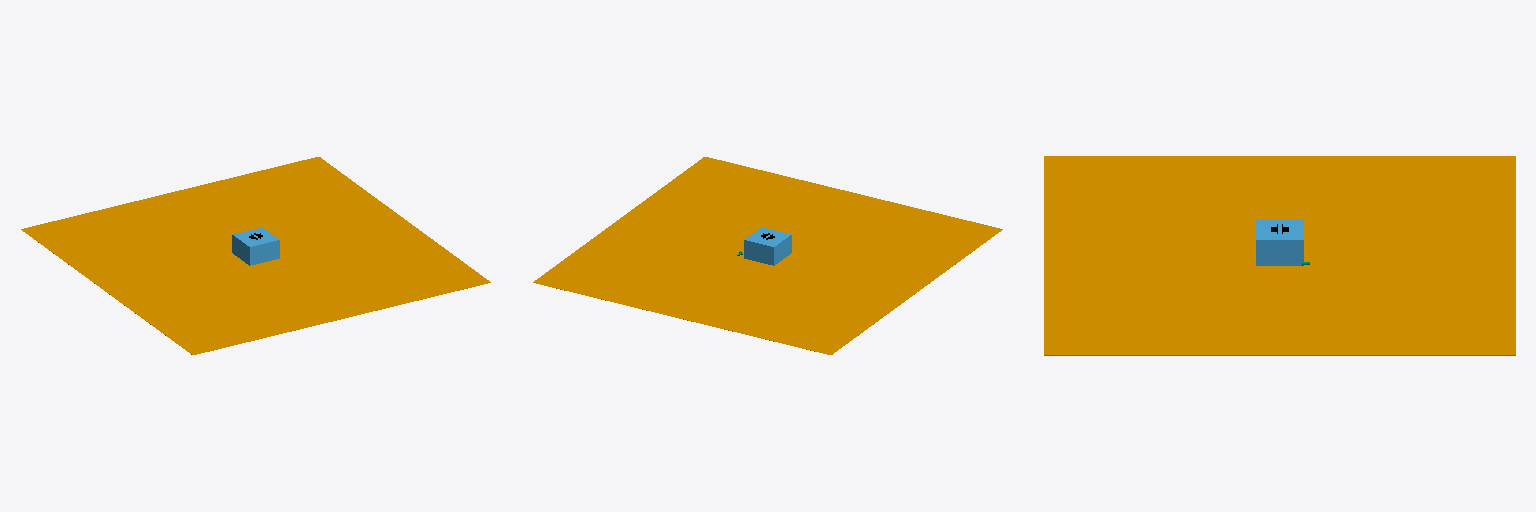
URDF robot description (ur5e):
<?xml version="1.0" encoding="utf-8"?>
<!-- =================================================================================== -->
<!-- |    This document was autogenerated by xacro from ur5e_robot.urdf.xacro          | -->
<!-- |    EDITING THIS FILE BY HAND IS NOT RECOMMENDED                                 | -->
<!-- =================================================================================== -->
<robot name="ur5e" xmlns:xacro="http://ros.org/wiki/xacro">

  <material name="black">
    <color rgba="0 0 0 1"/>
  </material>
  <material name="gray">
    <color rgba="0.1 0.1 0.1 1"/>
  </material>
  <material name="lightgray">
    <color rgba="0.8 0.8 0.8 1"/>
  </material>

  <link name="ground">
        <origin rpy="0.0 0.0 0.0" xyz="0 0 0.00"/>
        <visual>
            <!-- <origin rpy="0.0 0.0 0.0" xyz="0.0 0.0 0.0"/> -->
            <geometry>
                <box size="5 5 0.001"/>
            </geometry>
        </visual>
        <collision>
            <!-- <origin rpy="0.0 0.0 0.0" xyz="0.0 0.0 0.0"/> -->
            <geometry>
                <box size="5 5 0.001"/>
            </geometry>
        </collision>
   </link>

   <!-- Table -->
   <joint name="table_ground" type="fixed">
        <parent link="ground"/>
        <child link="table"/>
        <origin rpy="0 0 0" xyz="0.0 0.0 0.15"/>
   </joint>
   <link name="table">
    <visual>
      <origin xyz="0 0 0"/>
      <geometry>
        <box size="0.5 0.5 0.3"/>
      </geometry>
    </visual>
    <collision>
      <origin xyz="0 0 0"/>
      <geometry>
        <box size="0.5 0.5 0.3"/>
      </geometry>
    </collision>
    <inertial>
      <mass value="1000.0"/>
      <inertia ixx="0.01" ixy="0.00" ixz="0.00" iyy="0.01" iyz="0.0" izz="0.01"/>
      <!-- inertia is recomputed when loading asset  -->
    </inertial>
  </link>

    <!-- Obstacle L1 (top right) -->
    <link name="obs_L1_1">
        <visual>
            <origin rpy="0.0 0.0 0.0" xyz="0.0 0.0 0.0"/>
            <geometry>
                <box size="0.07 0.01 0.05"/>
            </geometry>
            <material name="">
                <color rgba="0 0 0 1"/>
            </material>
        </visual>
        <collision>
            <origin rpy="0.0 0.0 0.0" xyz="0.0 0.0 0.0"/>
            <geometry>
                <box size="0.07 0.01 0.05"/>
            </geometry>
        </collision>
        <inertial>
            <mass value="10000"/>
            <inertia ixx="100"  ixy="0"  ixz="0" iyy="100" iyz="0" izz="100" />
        </inertial>
    </link>
    <link name="obs_L1_2">
        <visual>
            <origin rpy="0.0 0.0 0.0" xyz="0.0 0.0 0.0"/>
            <geometry>
                <box size="0.01 0.07 0.05"/>
            </geometry>
            <material name="">
                <color rgba="0 0 0 1"/>
            </material>
        </visual>
        <collision>
            <origin rpy="0.0 0.0 0.0" xyz="0.0 0.0 0.0"/>
            <geometry>
                <box size="0.01 0.07 0.05"/>
            </geometry>
        </collision>
        <inertial>
            <mass value="10000"/>
            <inertia ixx="100"  ixy="0"  ixz="0" iyy="100" iyz="0" izz="100" />
        </inertial>
    </link>
    <joint name="obs_L1_1" type="fixed">
        <parent link="table"/>
        <child link="obs_L1_1"/>
        <origin rpy="0 0 0" xyz="0.06 0.03 0.15"/>
    </joint>
    <joint name="obs_L1_2" type="fixed">
        <parent link="table"/>
        <child link="obs_L1_2"/>
        <origin rpy="0 0 0" xyz="0.03 0.06 0.15"/>
    </joint>

    <!-- Obstacle L2 (bottom left) -->
    <link name="obs_L2_1">
        <visual>
            <origin rpy="0.0 0.0 0.0" xyz="0.0 0.0 0.0"/>
            <geometry>
                <box size="0.07 0.01 0.05"/>
            </geometry>
            <material name="">
                <color rgba="0 0 0 1"/>
            </material>
        </visual>
        <collision>
            <origin rpy="0.0 0.0 0.0" xyz="0.0 0.0 0.0"/>
            <geometry>
                <box size="0.07 0.01 0.05"/>
            </geometry>
        </collision>
        <inertial>
            <mass value="10000"/>
            <inertia ixx="100"  ixy="0"  ixz="0" iyy="100" iyz="0" izz="100" />
        </inertial>
    </link>
    <link name="obs_L2_2">
        <visual>
            <origin rpy="0.0 0.0 0.0" xyz="0.0 0.0 0.0"/>
            <geometry>
                <box size="0.01 0.07 0.05"/>
            </geometry>
            <material name="">
                <color rgba="0 0 0 1"/>
            </material>
        </visual>
        <collision>
            <origin rpy="0.0 0.0 0.0" xyz="0.0 0.0 0.0"/>
            <geometry>
                <box size="0.01 0.07 0.05"/>
            </geometry>
        </collision>
        <inertial>
            <mass value="10000"/>
            <inertia ixx="100"  ixy="0"  ixz="0" iyy="100" iyz="0" izz="100" />
        </inertial>
    </link>
    <joint name="obs_L2_1" type="fixed">
        <parent link="table"/>
        <child link="obs_L2_1"/>
        <origin rpy="0 0 0" xyz="-0.06 -0.03 0.15"/>
    </joint>
    <joint name="obs_L2_2" type="fixed">
        <parent link="table"/>
        <child link="obs_L2_2"/>
        <origin rpy="0 0 0" xyz="-0.03 -0.06 0.15"/>
    </joint>


    <!-- Obstacle L3 (bottom right) -->
     <link name="obs_L3_1">
        <visual>
            <origin rpy="0.0 0.0 0.0" xyz="0.0 0.0 0.0"/>
            <geometry>
                <box size="0.07 0.01 0.05"/>
            </geometry>
            <material name="">
                <color rgba="0 0 0 1"/>
            </material>
        </visual>
        <collision>
            <origin rpy="0.0 0.0 0.0" xyz="0.0 0.0 0.0"/>
            <geometry>
                <box size="0.07 0.01 0.05"/>
            </geometry>
        </collision>
        <inertial>
            <mass value="10000"/>
            <inertia ixx="100"  ixy="0"  ixz="0" iyy="100" iyz="0" izz="100" />
        </inertial>
    </link>
     <link name="obs_L3_2">
        <visual>
            <origin rpy="0.0 0.0 0.0" xyz="0.0 0.0 0.0"/>
            <geometry>
                <box size="0.01 0.07 0.05"/>
            </geometry>
            <material name="">
                <color rgba="0 0 0 1"/>
            </material>
        </visual>
        <collision>
            <origin rpy="0.0 0.0 0.0" xyz="0.0 0.0 0.0"/>
            <geometry>
                <box size="0.01 0.07 0.05"/>
            </geometry>
        </collision>
        <inertial>
            <mass value="10000"/>
            <inertia ixx="100"  ixy="0"  ixz="0" iyy="100" iyz="0" izz="100" />
        </inertial>
    </link>
    <joint name="obs_L3_1" type="fixed">
        <parent link="table"/>
        <child link="obs_L3_1"/>
        <origin rpy="0 0 0" xyz="0.06 -0.03 0.15"/>
    </joint>
    <joint name="obs_L3_2" type="fixed">
        <parent link="table"/>
        <child link="obs_L3_2"/>
        <origin rpy="0 0 0" xyz="0.03 -0.06 0.15"/>
    </joint>

    <!-- Obstacle L4 (top left) -->
     <link name="obs_L4_1">
        <visual>
            <origin rpy="0.0 0.0 0.0" xyz="0.0 0.0 0.0"/>
            <geometry>
                <box size="0.07 0.01 0.05"/>
            </geometry>
            <material name="">
                <color rgba="0 0 0 1"/>
            </material>
        </visual>
        <collision>
            <origin rpy="0.0 0.0 0.0" xyz="0.0 0.0 0.0"/>
            <geometry>
                <box size="0.07 0.01 0.05"/>
            </geometry>
        </collision>
        <inertial>
            <mass value="10000"/>
            <inertia ixx="100"  ixy="0"  ixz="0" iyy="100" iyz="0" izz="100" />
        </inertial>
    </link>
     <link name="obs_L4_2">
        <visual>
            <origin rpy="0.0 0.0 0.0" xyz="0.0 0.0 0.0"/>
            <geometry>
                <box size="0.01 0.07 0.05"/>
            </geometry>
            <material name="">
                <color rgba="0 0 0 1"/>
            </material>
        </visual>
        <collision>
            <origin rpy="0.0 0.0 0.0" xyz="0.0 0.0 0.0"/>
            <geometry>
                <box size="0.01 0.07 0.05"/>
            </geometry>
        </collision>
        <inertial>
            <mass value="10000"/>
            <inertia ixx="100"  ixy="0"  ixz="0" iyy="100" iyz="0" izz="100" />
        </inertial>
    </link>
    <joint name="obs_L4_1" type="fixed">
        <parent link="table"/>
        <child link="obs_L4_1"/>
        <origin rpy="0 0 0" xyz="-0.06 0.03 0.15"/>
    </joint>
    <joint name="obs_L4_2" type="fixed">
        <parent link="table"/>
        <child link="obs_L4_2"/>
        <origin rpy="0 0 0" xyz="-0.03 0.06 0.15"/>
    </joint>

  <!-- Base Link -->
  <joint name="base_link_ground" type="fixed">
        <parent link="ground"/>
        <child link="base_link"/>
        <origin rpy="0 0 0" xyz="-0.5 0.0 0"/>
  </joint>
  <link name="base_link">
    <visual>
      <geometry>
        <mesh filename="package://robot/urdf/meshes/ur5e/visual/base.dae"/>
      </geometry>
      <material name="LightGrey">
        <color rgba="0.7 0.7 0.7 1.0"/>
      </material>
    </visual>
    <collision>
      <geometry>
        <mesh filename="package://robot/urdf/meshes/ur5e/collision/base.stl" scale="1.0 1.0 1.0"/>
      </geometry>
    </collision>
    <inertial>
      <mass value="4.0"/>
      <origin rpy="0 0 0" xyz="0.0 0.0 0.0"/>
      <inertia ixx="0.00443333156" ixy="0.0" ixz="0.0" iyy="0.00443333156" iyz="0.0" izz="0.0072"/>
    </inertial>
  </link>
  <joint name="shoulder_pan_joint" type="revolute">
    <parent link="base_link"/>
    <child link="shoulder_link"/>
    <origin rpy="0.0 0.0 0.0" xyz="0.0 0.0 0.163"/>
    <axis xyz="0 0 1"/>
    <limit effort="150.0" lower="-6.28318530718" upper="6.28318530718" velocity="3.14"/>
    <dynamics damping="0.0" friction="0.0"/>
  </joint>
  <link name="shoulder_link">
    <visual>
      <geometry>
        <mesh filename="package://robot/urdf/meshes/ur5e/visual/shoulder.dae"/>
      </geometry>
      <material name="LightGrey">
        <color rgba="0.7 0.7 0.7 1.0"/>
      </material>
    </visual>
    <collision>
      <geometry>
        <mesh filename="package://robot/urdf/meshes/ur5e/collision/shoulder.stl" scale="1.0 1.0 1.0"/>
      </geometry>
    </collision>
    <inertial>
      <mass value="3.7"/>
      <origin rpy="0 0 0" xyz="0.0 0.0 0.0"/>
      <inertia ixx="0.010267495893" ixy="0.0" ixz="0.0" iyy="0.010267495893" iyz="0.0" izz="0.00666"/>
    </inertial>
  </link>
  <joint name="shoulder_lift_joint" type="revolute">
    <parent link="shoulder_link"/>
    <child link="upper_arm_link"/>
    <origin rpy="0.0 1.57079632679 0.0" xyz="0.0 0.138 0.0"/>
    <axis xyz="0 1 0"/>
    <limit effort="150.0" lower="-6.28318530718" upper="6.28318530718" velocity="3.14"/>
    <dynamics damping="0.0" friction="0.0"/>
  </joint>
  <link name="upper_arm_link">
    <visual>
      <geometry>
        <mesh filename="package://robot/urdf/meshes/ur5e/visual/upperarm.dae"/>
      </geometry>
      <material name="LightGrey">
        <color rgba="0.7 0.7 0.7 1.0"/>
      </material>
    </visual>
    <collision>
      <geometry>
        <mesh filename="package://robot/urdf/meshes/ur5e/collision/upperarm.stl" scale="1.0 1.0 1.0"/>
      </geometry>
    </collision>
    <inertial>
      <mass value="8.393"/>
      <origin rpy="0 0 0" xyz="0.0 0.0 0.2125"/>
      <inertia ixx="0.133885781862" ixy="0.0" ixz="0.0" iyy="0.133885781862" iyz="0.0" izz="0.0151074"/>
    </inertial>
  </link>
  <joint name="elbow_joint" type="revolute">
    <parent link="upper_arm_link"/>
    <child link="forearm_link"/>
    <origin rpy="0.0 0.0 0.0" xyz="0.0 -0.131 0.425"/>
    <axis xyz="0 1 0"/>
    <limit effort="150.0" lower="-3.14159265359" upper="3.14159265359" velocity="3.14"/>
    <dynamics damping="0.0" friction="0.0"/>
  </joint>
  <link name="forearm_link">
    <visual>
      <geometry>
        <mesh filename="package://robot/urdf/meshes/ur5e/visual/forearm.dae"/>
      </geometry>
      <material name="LightGrey">
        <color rgba="0.7 0.7 0.7 1.0"/>
      </material>
    </visual>
    <collision>
      <geometry>
        <mesh filename="package://robot/urdf/meshes/ur5e/collision/forearm.stl" scale="1.0 1.0 1.0"/>
      </geometry>
    </collision>
    <inertial>
      <mass value="2.275"/>
      <origin rpy="0 0 0" xyz="0.0 0.0 0.196"/>
      <inertia ixx="0.0311796208615" ixy="0.0" ixz="0.0" iyy="0.0311796208615" iyz="0.0" izz="0.004095"/>
    </inertial>
  </link>
  <joint name="wrist_1_joint" type="revolute">
    <parent link="forearm_link"/>
    <child link="wrist_1_link"/>
    <origin rpy="0.0 1.57079632679 0.0" xyz="0.0 0.0 0.392"/>
    <axis xyz="0 1 0"/>
    <limit effort="28.0" lower="-6.28318530718" upper="6.28318530718" velocity="6.28"/>
    <dynamics damping="0.0" friction="0.0"/>
  </joint>
  <link name="wrist_1_link">
    <visual>
      <geometry>
        <mesh filename="package://robot/urdf/meshes/ur5e/visual/wrist1.dae"/>
      </geometry>
      <material name="LightGrey">
        <color rgba="0.7 0.7 0.7 1.0"/>
      </material>
    </visual>
    <collision>
      <geometry>
        <mesh filename="package://robot/urdf/meshes/ur5e/collision/wrist1.stl" scale="1.0 1.0 1.0"/>
      </geometry>
    </collision>
    <inertial>
      <mass value="1.219"/>
      <origin rpy="0 0 0" xyz="0.0 0.127 0.0"/>
      <inertia ixx="0.00255989897604" ixy="0.0" ixz="0.0" iyy="0.00255989897604" iyz="0.0" izz="0.0021942"/>
    </inertial>
  </link>
  <joint name="wrist_2_joint" type="revolute">
    <parent link="wrist_1_link"/>
    <child link="wrist_2_link"/>
    <origin rpy="0.0 0.0 0.0" xyz="0.0 0.127 0.0"/>
    <axis xyz="0 0 1"/>
    <limit effort="28.0" lower="-6.28318530718" upper="6.28318530718" velocity="6.28"/>
    <dynamics damping="0.0" friction="0.0"/>
  </joint>
  <link name="wrist_2_link">
    <visual>
      <geometry>
        <mesh filename="package://robot/urdf/meshes/ur5e/visual/wrist2.dae"/>
      </geometry>
      <material name="LightGrey">
        <color rgba="0.7 0.7 0.7 1.0"/>
      </material>
    </visual>
    <collision>
      <geometry>
        <mesh filename="package://robot/urdf/meshes/ur5e/collision/wrist2.stl" scale="1.0 1.0 1.0"/>
      </geometry>
    </collision>
    <inertial>
      <mass value="1.219"/>
      <origin rpy="0 0 0" xyz="0.0 0.0 0.1"/>
      <inertia ixx="0.00255989897604" ixy="0.0" ixz="0.0" iyy="0.00255989897604" iyz="0.0" izz="0.0021942"/>
    </inertial>
  </link>
  <joint name="wrist_3_joint" type="revolute">
    <parent link="wrist_2_link"/>
    <child link="wrist_3_link"/>
    <origin rpy="0.0 0.0 0.0" xyz="0.0 0.0 0.1"/>
    <axis xyz="0 1 0"/>
    <limit effort="28.0" lower="-6.28318530718" upper="6.28318530718" velocity="6.28"/>
    <dynamics damping="0.0" friction="0.0"/>
  </joint>
  <link name="wrist_3_link">
    <visual>
      <geometry>
        <mesh filename="package://robot/urdf/meshes/ur5e/visual/wrist3.dae"/>
      </geometry>
      <material name="LightGrey">
        <color rgba="0.7 0.7 0.7 1.0"/>
      </material>
    </visual>
    <collision>
      <geometry>
        <mesh filename="package://robot/urdf/meshes/ur5e/collision/wrist3.stl" scale="1.0 1.0 1.0"/>
      </geometry>
    </collision>
    <inertial>
      <mass value="0.1879"/>
      <origin rpy="1.57079632679 0 0" xyz="0.0 0.0771 0.0"/>
      <inertia ixx="9.89041005217e-05" ixy="0.0" ixz="0.0" iyy="9.89041005217e-05" iyz="0.0" izz="0.0001321171875"/>
    </inertial>
  </link>
  <joint name="ee_fixed_joint" type="fixed">
    <parent link="wrist_3_link"/>
    <child link="ee_link"/>
    <origin rpy="0.0 0.0 1.57079632679" xyz="0.0 0.1 0.0"/>
  </joint>
  <link name="ee_link">
    <collision>
      <geometry>
        <box size="0.01 0.01 0.01"/>
      </geometry>
      <origin rpy="0 0 0" xyz="-0.01 0 0"/>
    </collision>
  </link>

<!-- Probe -->
  <link name="probe_link">
    <visual>
      <origin xyz="0 0 0" rpy="0 0 0" />
      <geometry>
        <mesh filename="package://robot/urdf/meshes/probe/ATI_mount_-_Part_1.dae" scale="0.001 0.001 0.001"/>
      </geometry>
    </visual>
    <collision>
      <origin xyz="0 0 0" rpy="0 0 0" />
      <geometry>
        <mesh filename="package://robot/urdf/meshes/probe/ATI_mount_-_Part_1.stl" scale="0.001 0.001 0.001"/>
      </geometry>
    </collision>
  </link>
  <joint name="probe_joint" type="fixed">
    <origin xyz="0 0 0" rpy="0.0 0.0 1.57079632679" />
    <parent link="ee_link" />
    <child link="probe_link" />
  </joint>


</robot>

--- Facts derived from the render (not from the file) ---
Views: 3 orthographic renders of the robot side by side, from view 1: azimuth 30°, elevation 25°; view 2: azimuth 150°, elevation 25°; view 3: azimuth 270°, elevation 25°.
Model ur5e with 19 links and 18 joints (6 revolute, 12 fixed), rooted at ground, posed every joint at zero.
Links seen in each view (by area): view 1: ground, table; view 2: ground, table; view 3: ground, table.
Link boxes in pixels (<box>): ground: <box>21,157,490,354</box>; table: <box>232,227,279,265</box>; ground: <box>533,157,1002,354</box>; table: <box>744,227,791,265</box>; ground: <box>1044,156,1515,355</box>; table: <box>1256,220,1303,265</box>.
Bounding box of the posed robot: 5 × 5 × 0.3255 m (x, y, z).
Meshes: 8 distinct files referenced, 1 mesh visuals loaded (1 Collada DAE); not drawn: 7 (reference not matched to a file when rendering).
